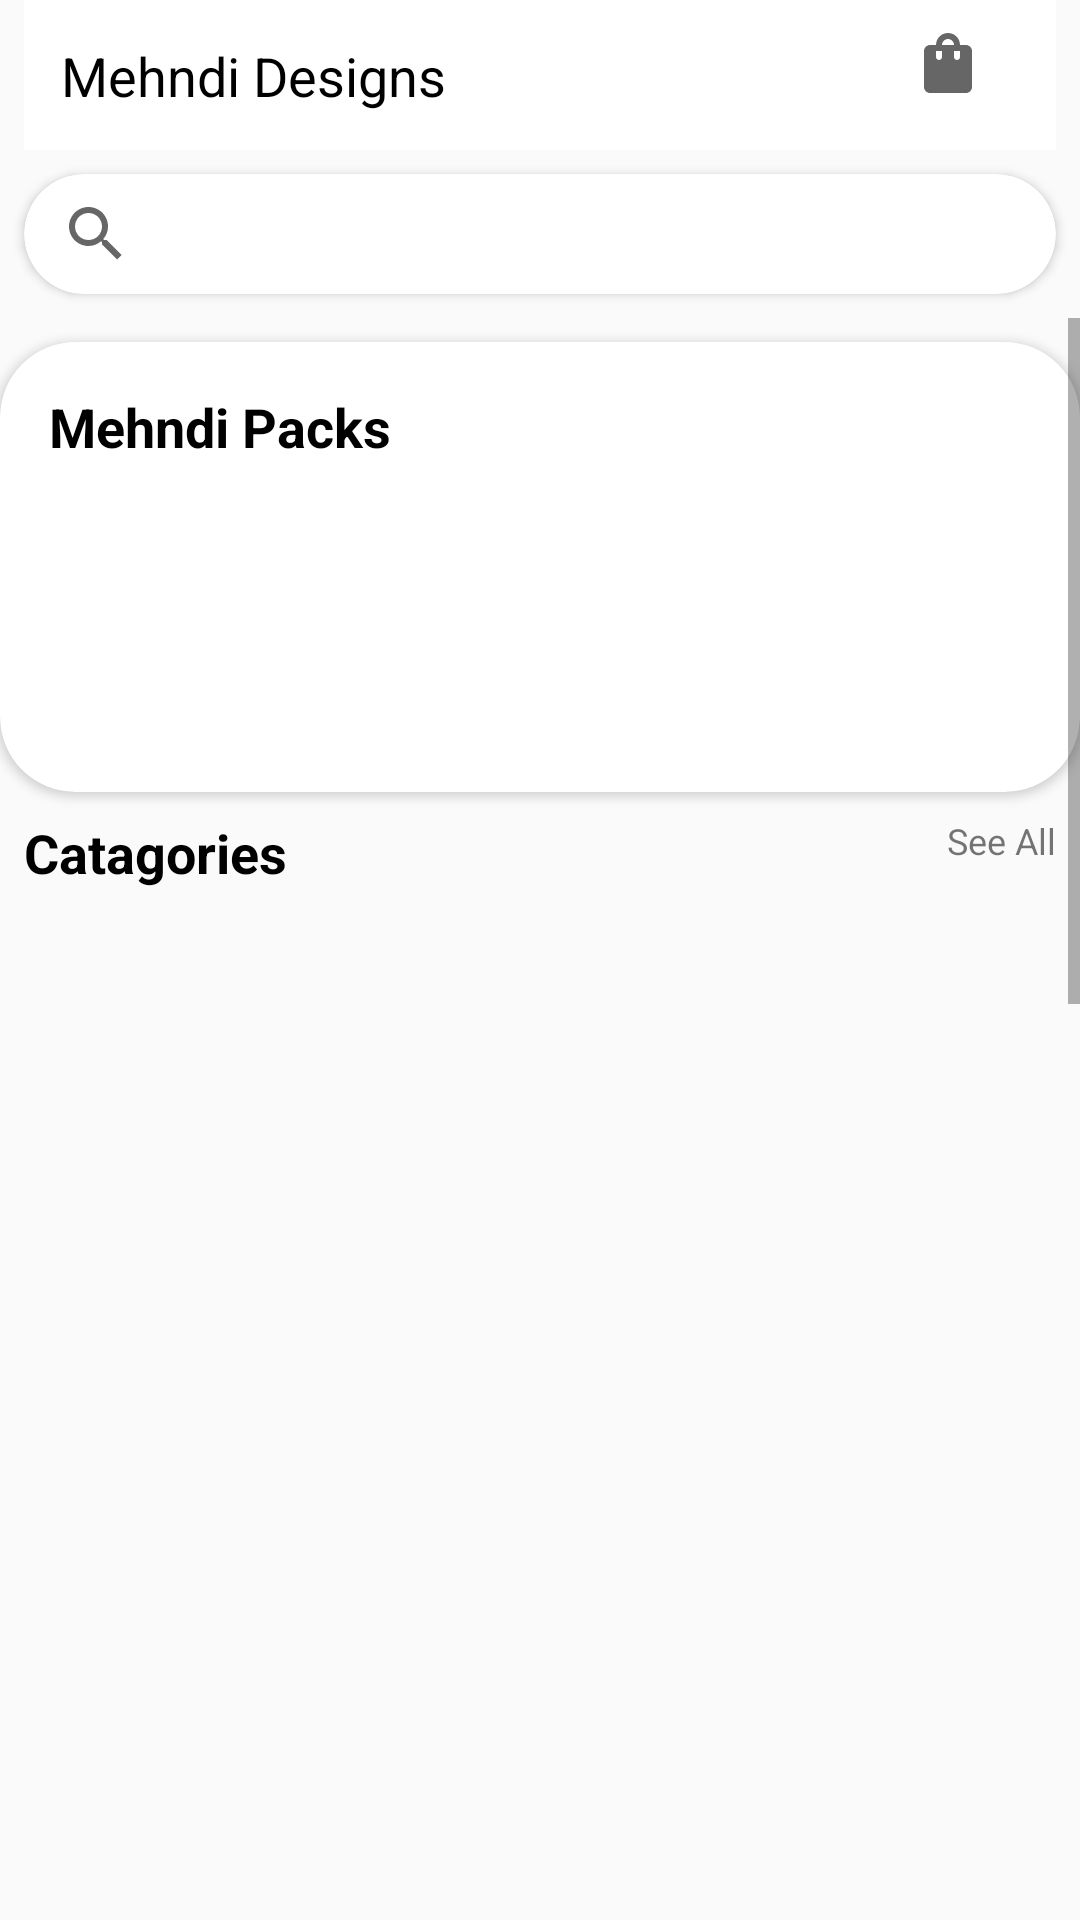

Locate icon controls on the screen. Image size 1080px×1920px, boxes as box=[x1, y1, x2, y2].
shopping bag: box=[924, 33, 972, 93]
